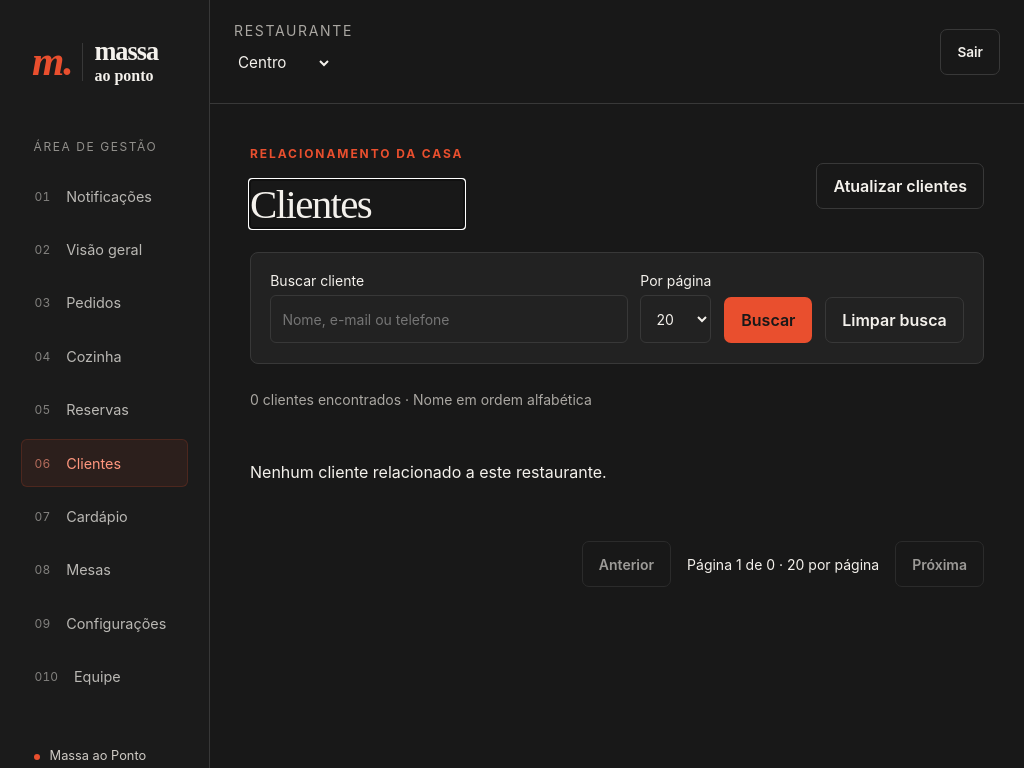
Customers UI › distinguishes an empty restaurant from a search without results
The image size is (1024, 768).
Expected: the text "Nenhum cliente relacionado a este restaurante." is shown, [250,462,607,482]
In the search field labelled "Buscar cliente": (449, 319) [270,295,628,343], type "  telefone inexistente  "
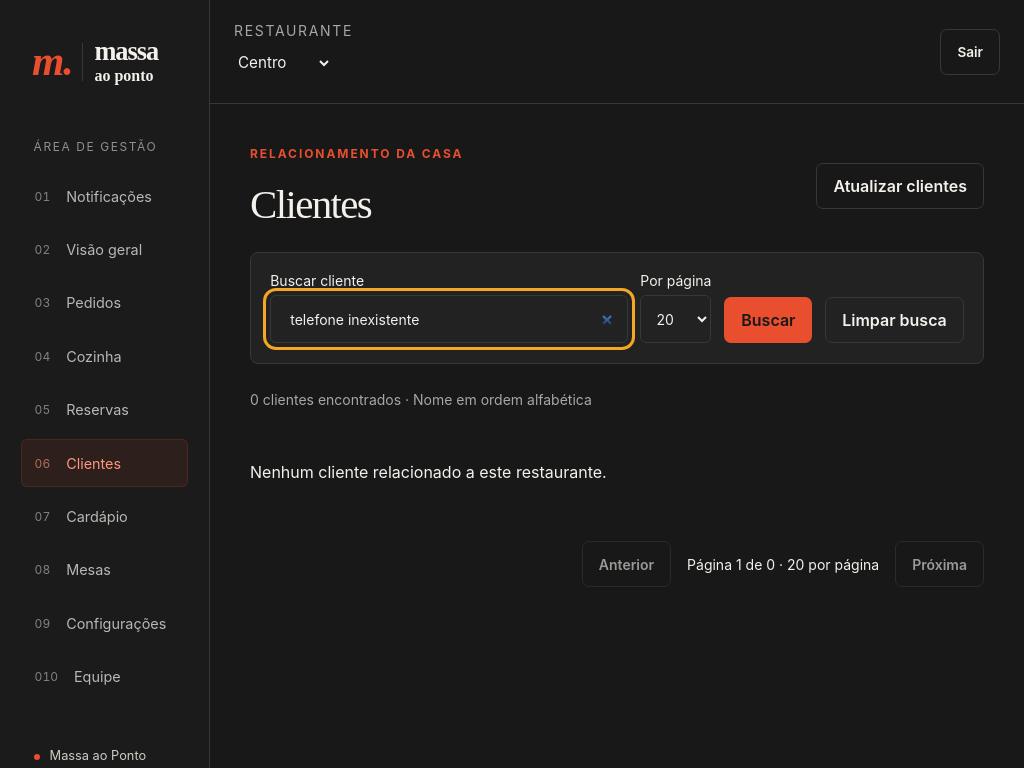
Click the button "Buscar": click(768, 320) [724,297,812,343]
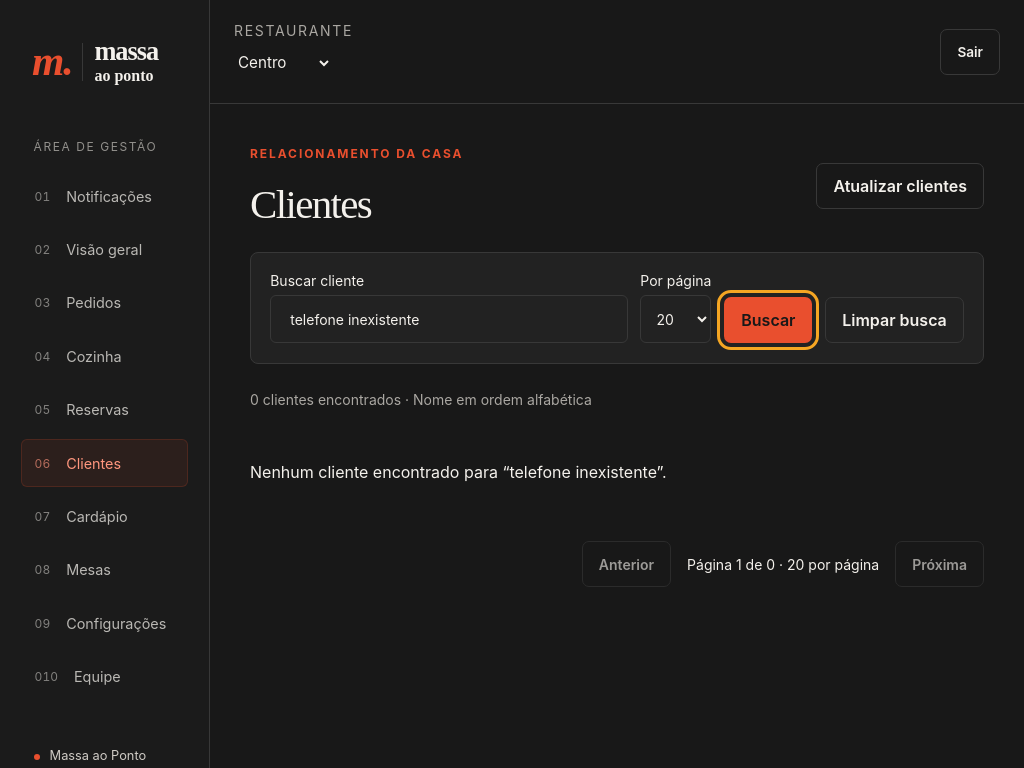
Expected: the text "Nenhum cliente encontrado para “telefone inexistente”." is shown, [250,462,667,482]
